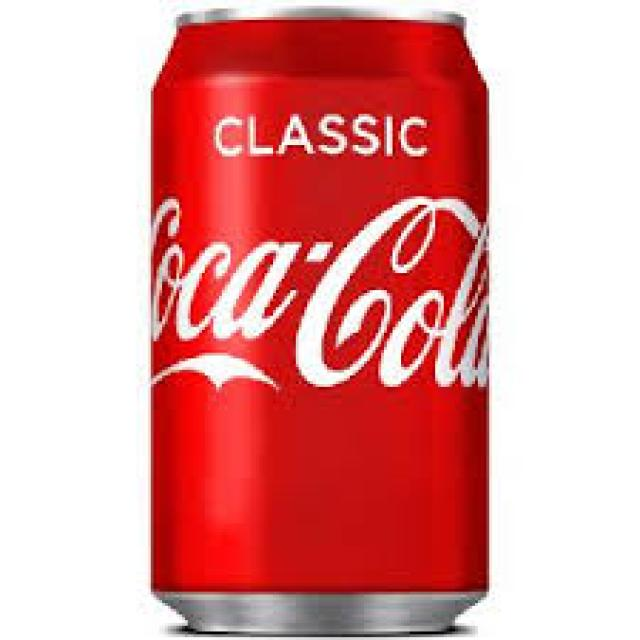aluminum_can: (154, 17, 489, 636)
